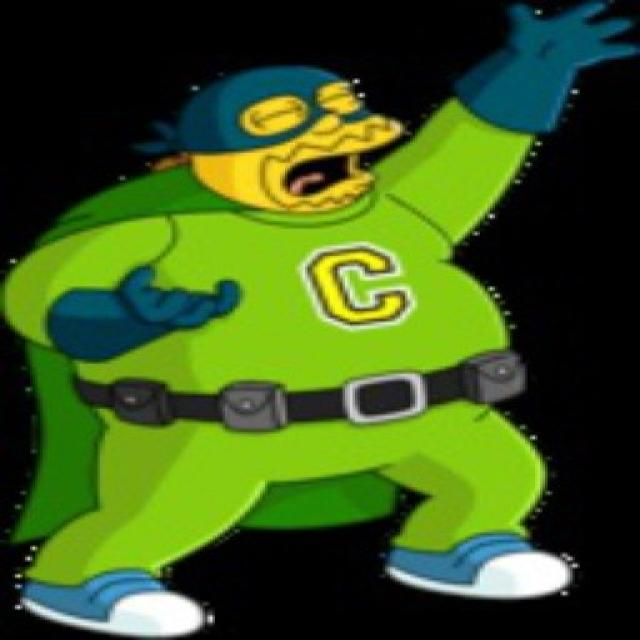Comic Book Guy: (154, 64, 411, 219)
